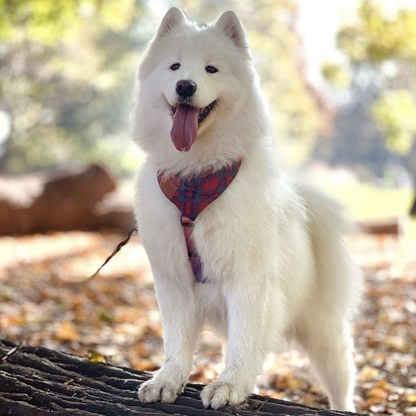samoyed: (127, 4, 371, 416)
